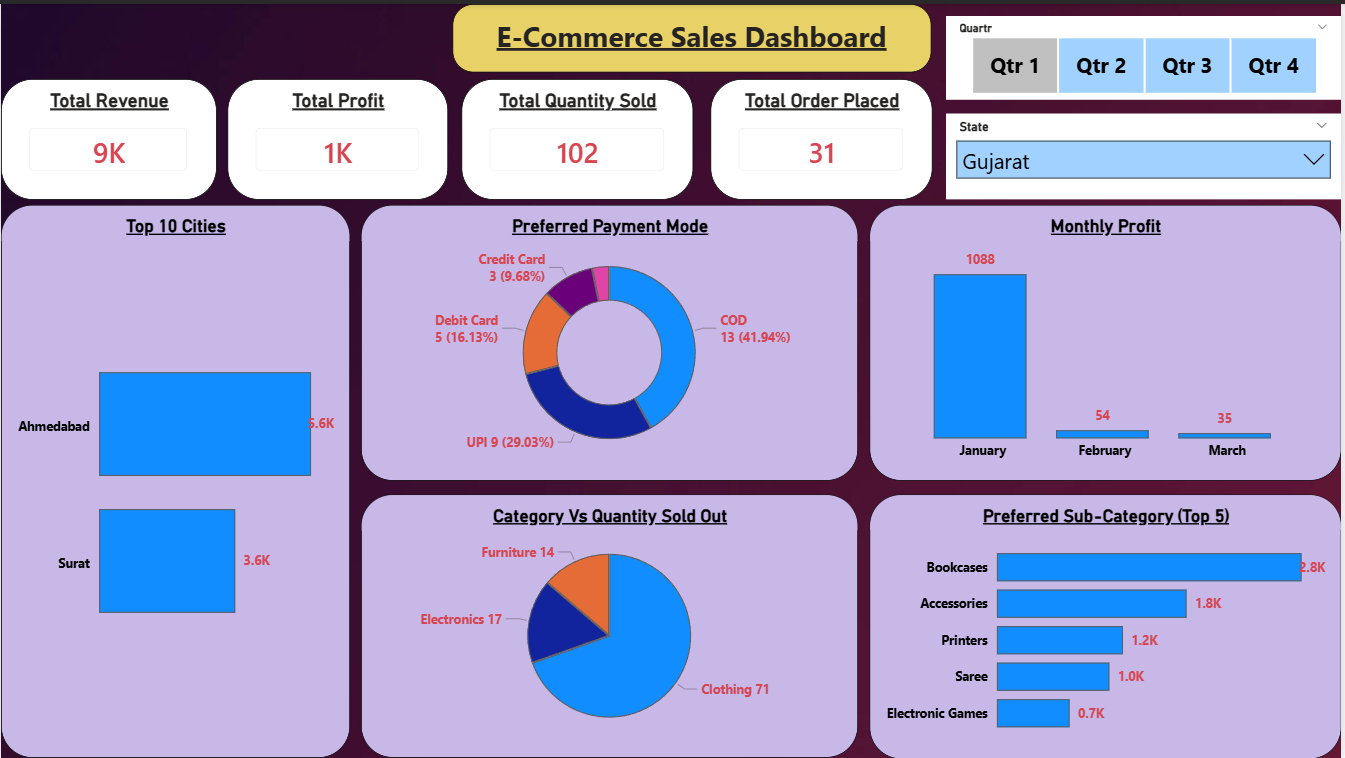

Layout of this report page (visuals, bound fields, positions):
{"tool":"powerbi","page":{"name":"Page 1","canvas":[1280,720],"ordinal":0},"visuals":[{"type":"columnChart","title":"Monthly Profit","fields":{"Category":["Orders.Order Date.Variation.Date Hierarchy.Month"],"Y":["Sum(Details.Profit)"]},"box":[829.2,191.7,450.3,263.2],"z":0},{"type":"barChart","title":"Preferred Sub-Category (Top 5)","fields":{"Category":["Details.Sub-Category"],"Y":["Sum(Details.Amount)"]},"box":[829.2,468.6,450.3,252.6],"z":1000},{"type":"donutChart","title":"Preferred Payment Mode","fields":{"Category":["Details.PaymentMode"],"Y":["CountNonNull(Details.Order ID)"]},"box":[343.8,191.7,474.7,263.2],"z":2000},{"type":"pieChart","title":"Category Vs Quantity Sold Out","fields":{"Category":["Details.Category"],"Y":["Sum(Details.Quantity)"]},"box":[343.8,468.6,474.7,251],"z":3000},{"type":"barChart","title":"Top 10 Cities","fields":{"Category":["Orders.City"],"Y":["Sum(Details.Amount)"]},"box":[0,191.7,333.2,527.9],"z":4000},{"type":"textbox","box":[431.5,0,457.3,65.1],"z":5000},{"type":"cardVisual","title":"Total Revenue","fields":{"Data":["Sum(Details.Amount)"]},"box":[0,71.2,205.9,115.1],"z":6000},{"type":"cardVisual","title":"Total Profit","fields":{"Data":["Sum(Details.Profit)"]},"box":[216.5,71.2,210.5,115.1],"z":7000},{"type":"cardVisual","title":"Total Quantity Sold","fields":{"Data":["Sum(Details.Quantity)"]},"box":[439.1,71.2,221.1,115.1],"z":8000},{"type":"cardVisual","title":"Total Order Placed","fields":{"Data":["CountNonNull(Details.Order ID)"]},"box":[676.8,71.2,212,115.1],"z":9000},{"type":"slicer","fields":{"Values":["Orders.Order Date.Variation.Date Hierarchy.Quarter"]},"box":[902.5,12.1,377,80.3],"z":9001},{"type":"slicer","fields":{"Values":["Orders.State"]},"box":[902.5,104.5,377,81.8],"z":9002}]}

Visuals, with their boxes in screenshot pixels (x1, y1, x2, y2), scaled from the page's 1280x720 canvas onto the 1345x758 screenshot:
"Monthly Profit" columnChart: region(871, 202, 1344, 479)
"Preferred Sub-Category (Top 5)" barChart: region(871, 493, 1344, 757)
"Preferred Payment Mode" donutChart: region(361, 202, 860, 479)
"Category Vs Quantity Sold Out" pieChart: region(361, 493, 860, 757)
"Top 10 Cities" barChart: region(0, 202, 350, 757)
textbox: region(453, 0, 934, 69)
"Total Revenue" cardVisual: region(0, 75, 216, 196)
"Total Profit" cardVisual: region(227, 75, 449, 196)
"Total Quantity Sold" cardVisual: region(461, 75, 694, 196)
"Total Order Placed" cardVisual: region(711, 75, 934, 196)
slicer - Orders.Order Date.Variation.Date Hierarchy.Quarter: region(948, 13, 1344, 97)
slicer - Orders.State: region(948, 110, 1344, 196)
